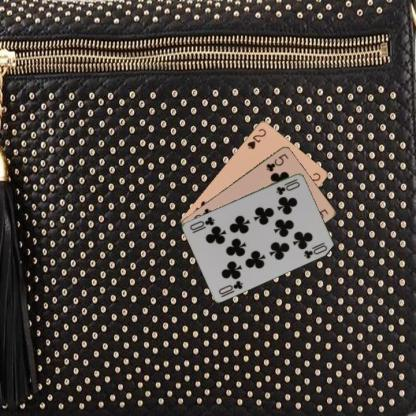10c: (216, 277, 244, 298), (273, 176, 301, 196)
2s: (245, 126, 268, 150)
5c: (264, 151, 290, 173)
